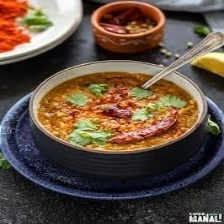sabzi: (31, 68, 202, 154)
